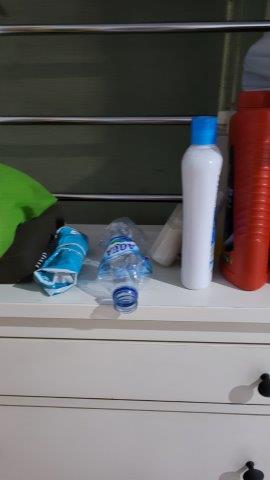botolplastik: (101, 217, 153, 316)
